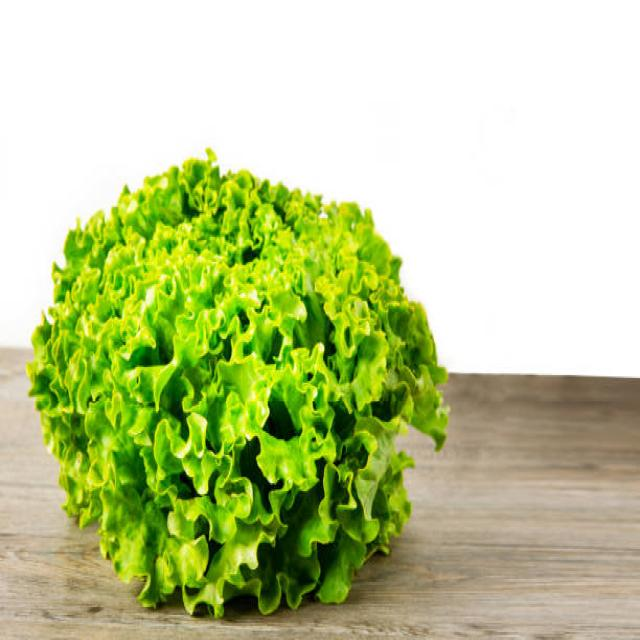Wet Waste: (26, 146, 452, 614)
